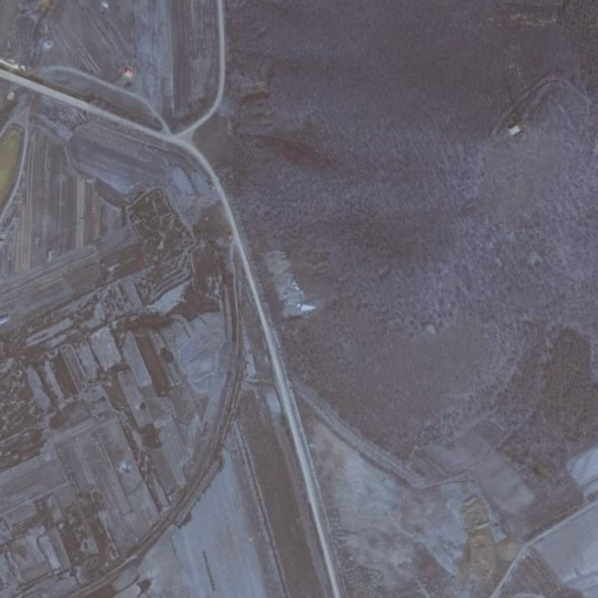slope: (258, 246, 317, 321)
